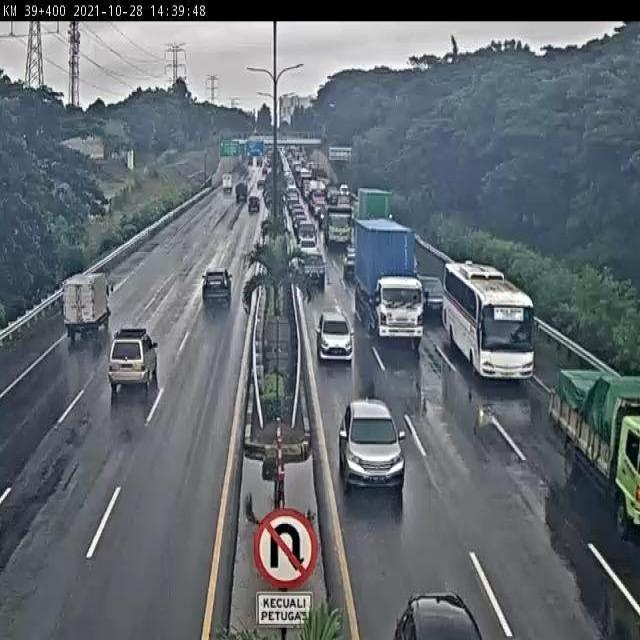big bus: (442, 252, 539, 391)
big truck: (351, 216, 427, 348), (353, 181, 390, 224)
car: (335, 392, 408, 500), (379, 582, 481, 640), (101, 319, 166, 396), (313, 307, 358, 365), (197, 264, 237, 315), (413, 272, 444, 317), (301, 253, 327, 287), (297, 234, 319, 258), (297, 218, 319, 238), (233, 181, 249, 208), (245, 196, 261, 220), (253, 177, 268, 195)
mid truck: (538, 350, 640, 530), (321, 201, 355, 248)
small truck: (57, 260, 115, 343), (217, 169, 235, 199)
